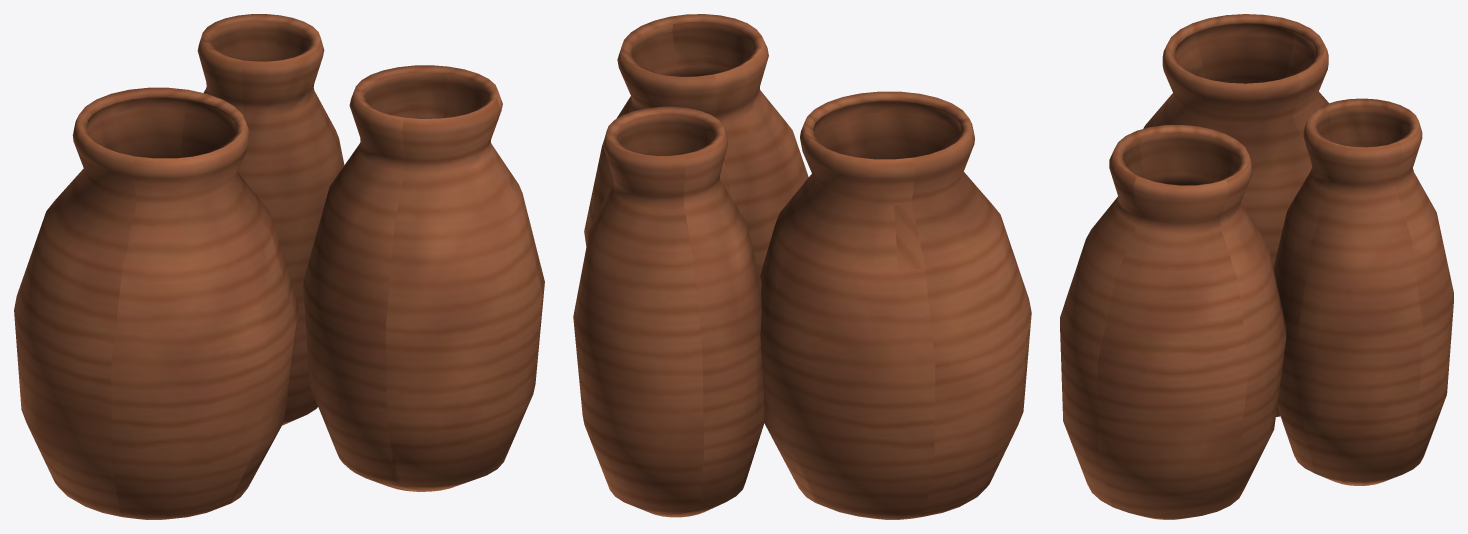
Rendered from p_jars.glb.
3 renders of one model, left to right at view 1: azimuth 30°, elevation 25°; view 2: azimuth 150°, elevation 25°; view 3: azimuth 270°, elevation 25°, orthographic. The views are drawn at different scales.
Parts seen in each view (by area): view 1: jars; view 2: jars; view 3: jars.
Part boxes in pixels (x1,y1,x2,y2): jars: (14, 14, 544, 519); jars: (573, 14, 1031, 519); jars: (1060, 14, 1453, 519).
Bounding box in the file's own units: 0.7683 × 0.6082 × 0.609.
Materials: 1 (1 with a texture image).
